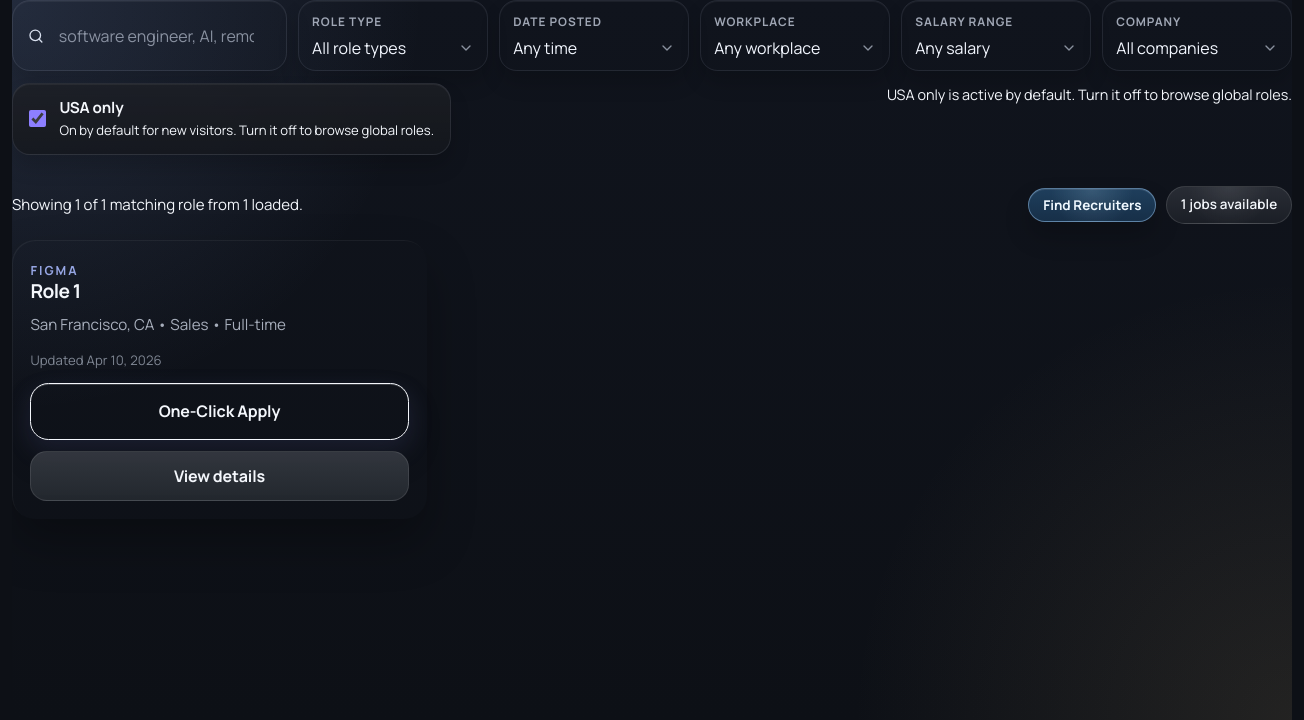
Test: JobsResults › shows a salary hydration search state before declaring no matches
Select "$150k - $200k" in the dropdown labelled "Salary range" at coordinates (996, 48), box [915, 36, 1077, 58]
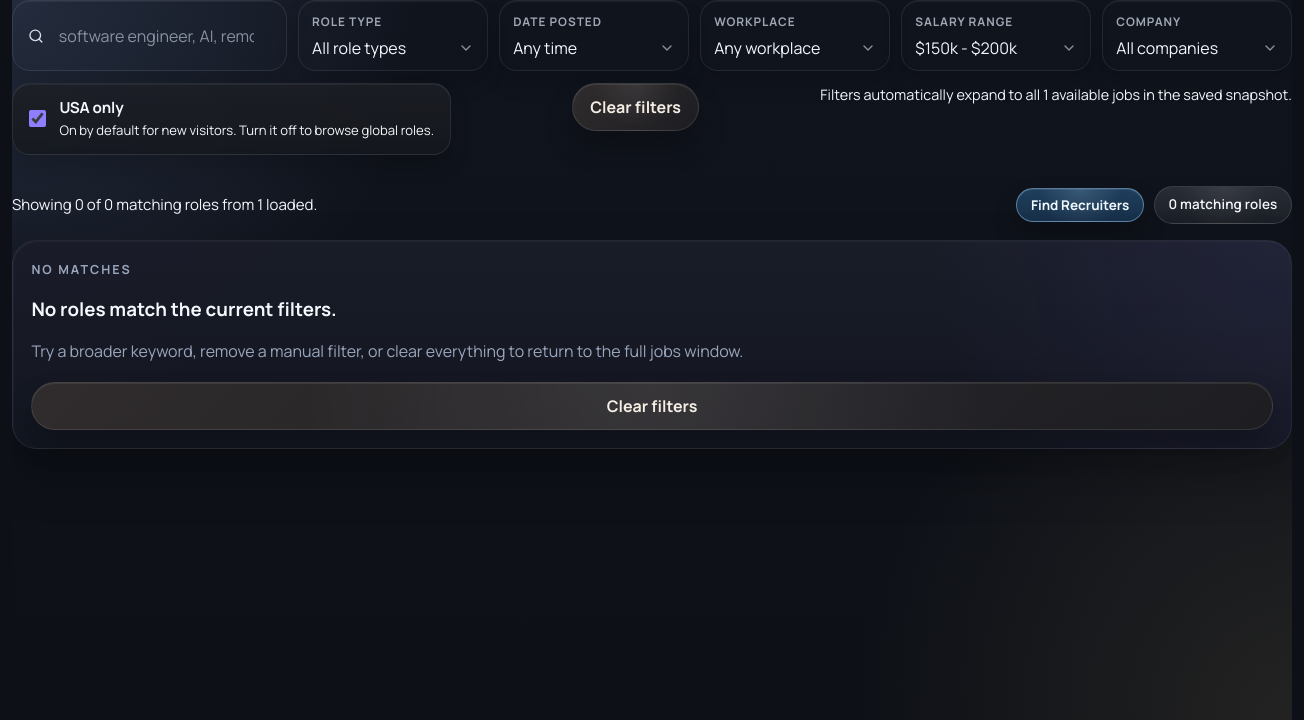
expect the heading "No roles match the current filters." is shown: met, box [31, 296, 337, 322]
